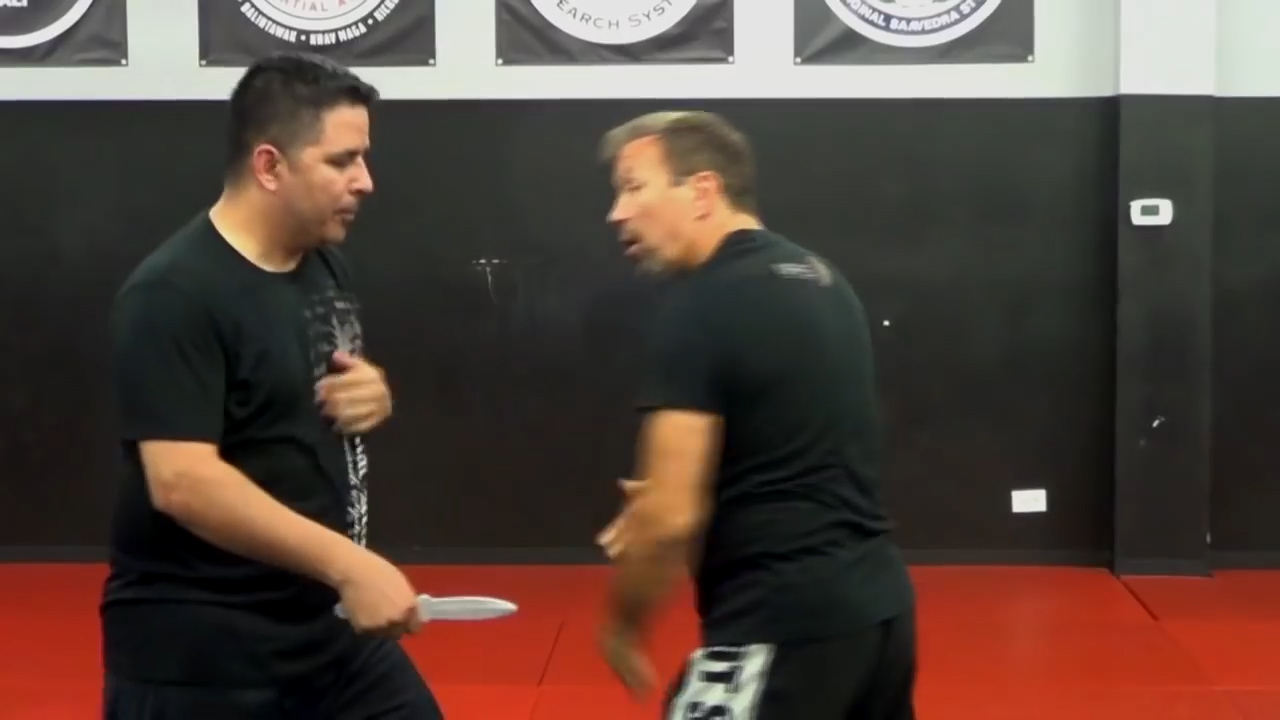knife: (318, 579, 534, 635)
